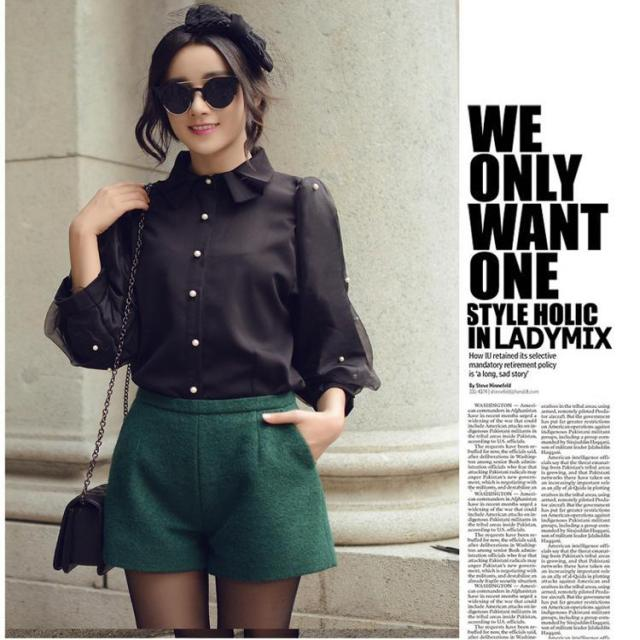long sleeve top: (88, 151, 369, 409)
shorts: (104, 392, 335, 573)
